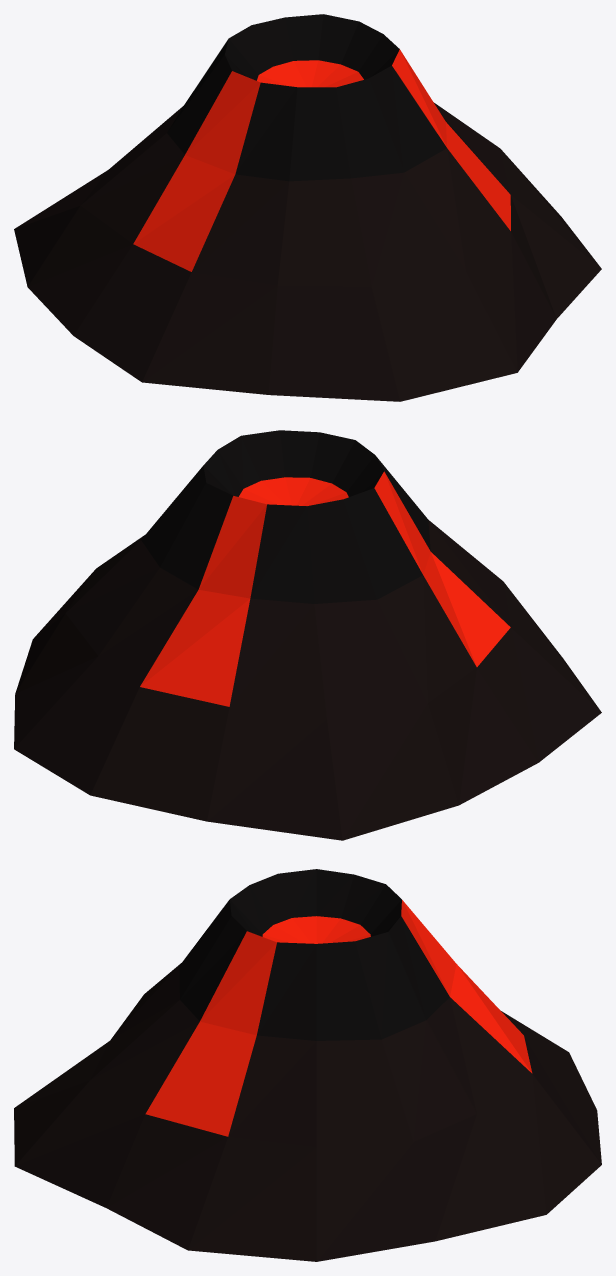
The model's file is volcan.obj.
The picture shows the model from 3 angles, top to bottom: view 1: azimuth 30°, elevation 25°; view 2: azimuth 150°, elevation 25°; view 3: azimuth 270°, elevation 25°; orthographic projection. The views are drawn at different scales.
Visible parts, largest first — view 1: Volcan; view 2: Volcan; view 3: Volcan.
Part boxes in pixels (<box>): Volcan: <box>14,14,601,401</box>; Volcan: <box>14,430,601,840</box>; Volcan: <box>14,869,601,1261</box>.
Bounding box in the file's own units: 1.94 × 0.86 × 1.99.
